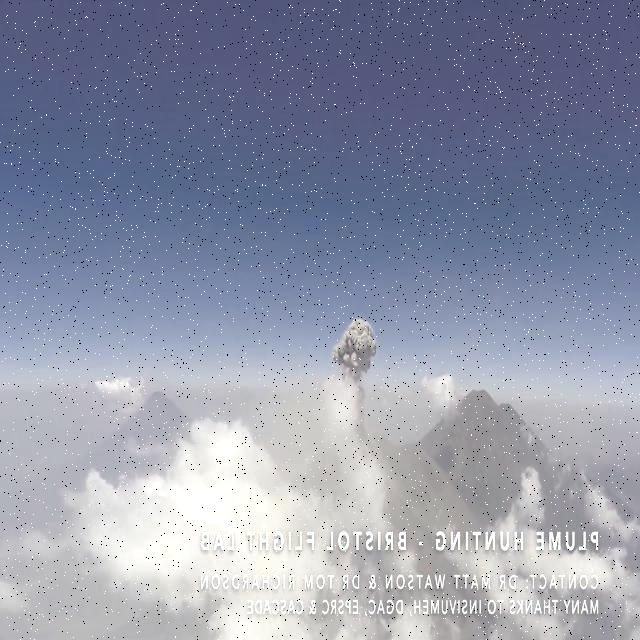Plume: (330, 312, 380, 385)
